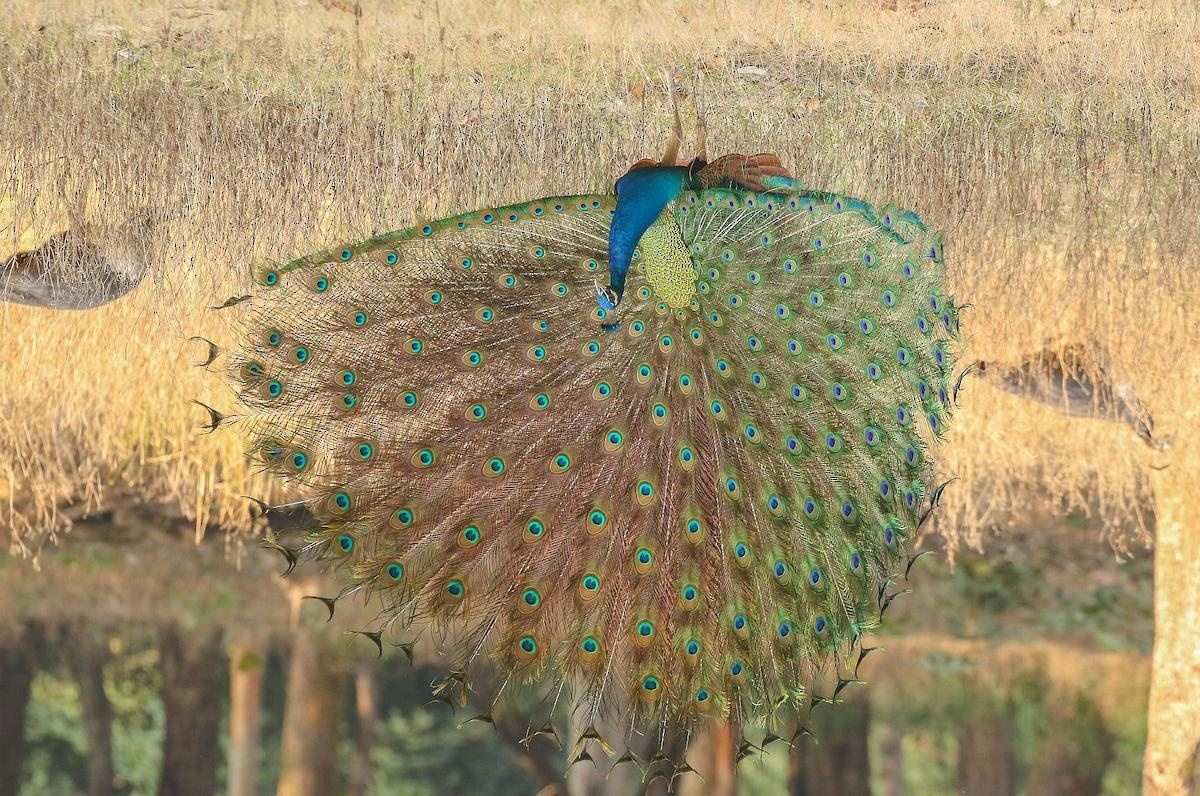peacock: (216, 123, 967, 781)
